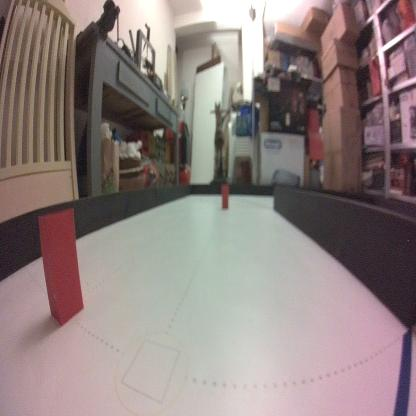red: (37, 211, 86, 328), (220, 182, 230, 210)
